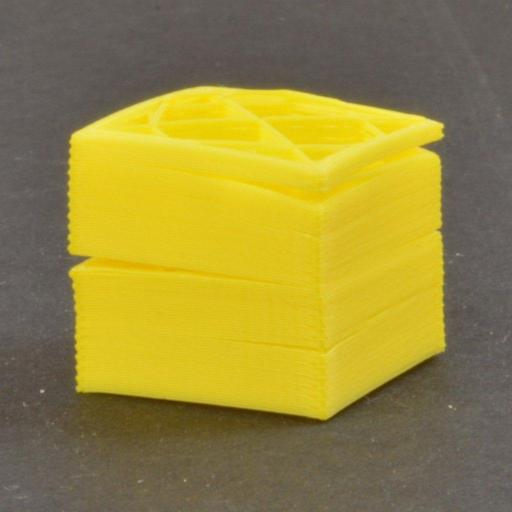cracks: (131, 127, 468, 208), (46, 220, 314, 304), (211, 320, 409, 366)
